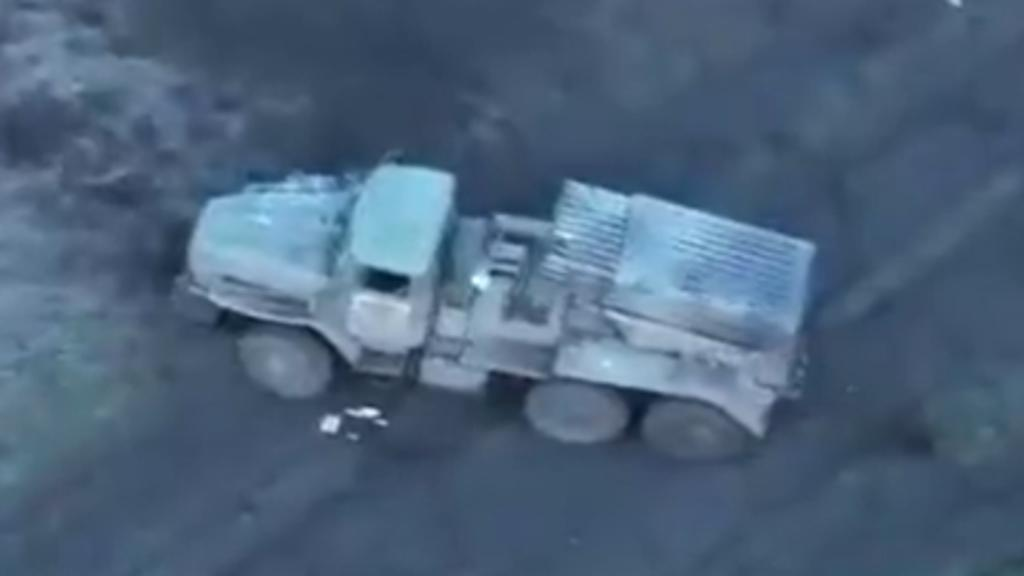MLRS: (170, 149, 816, 460)
